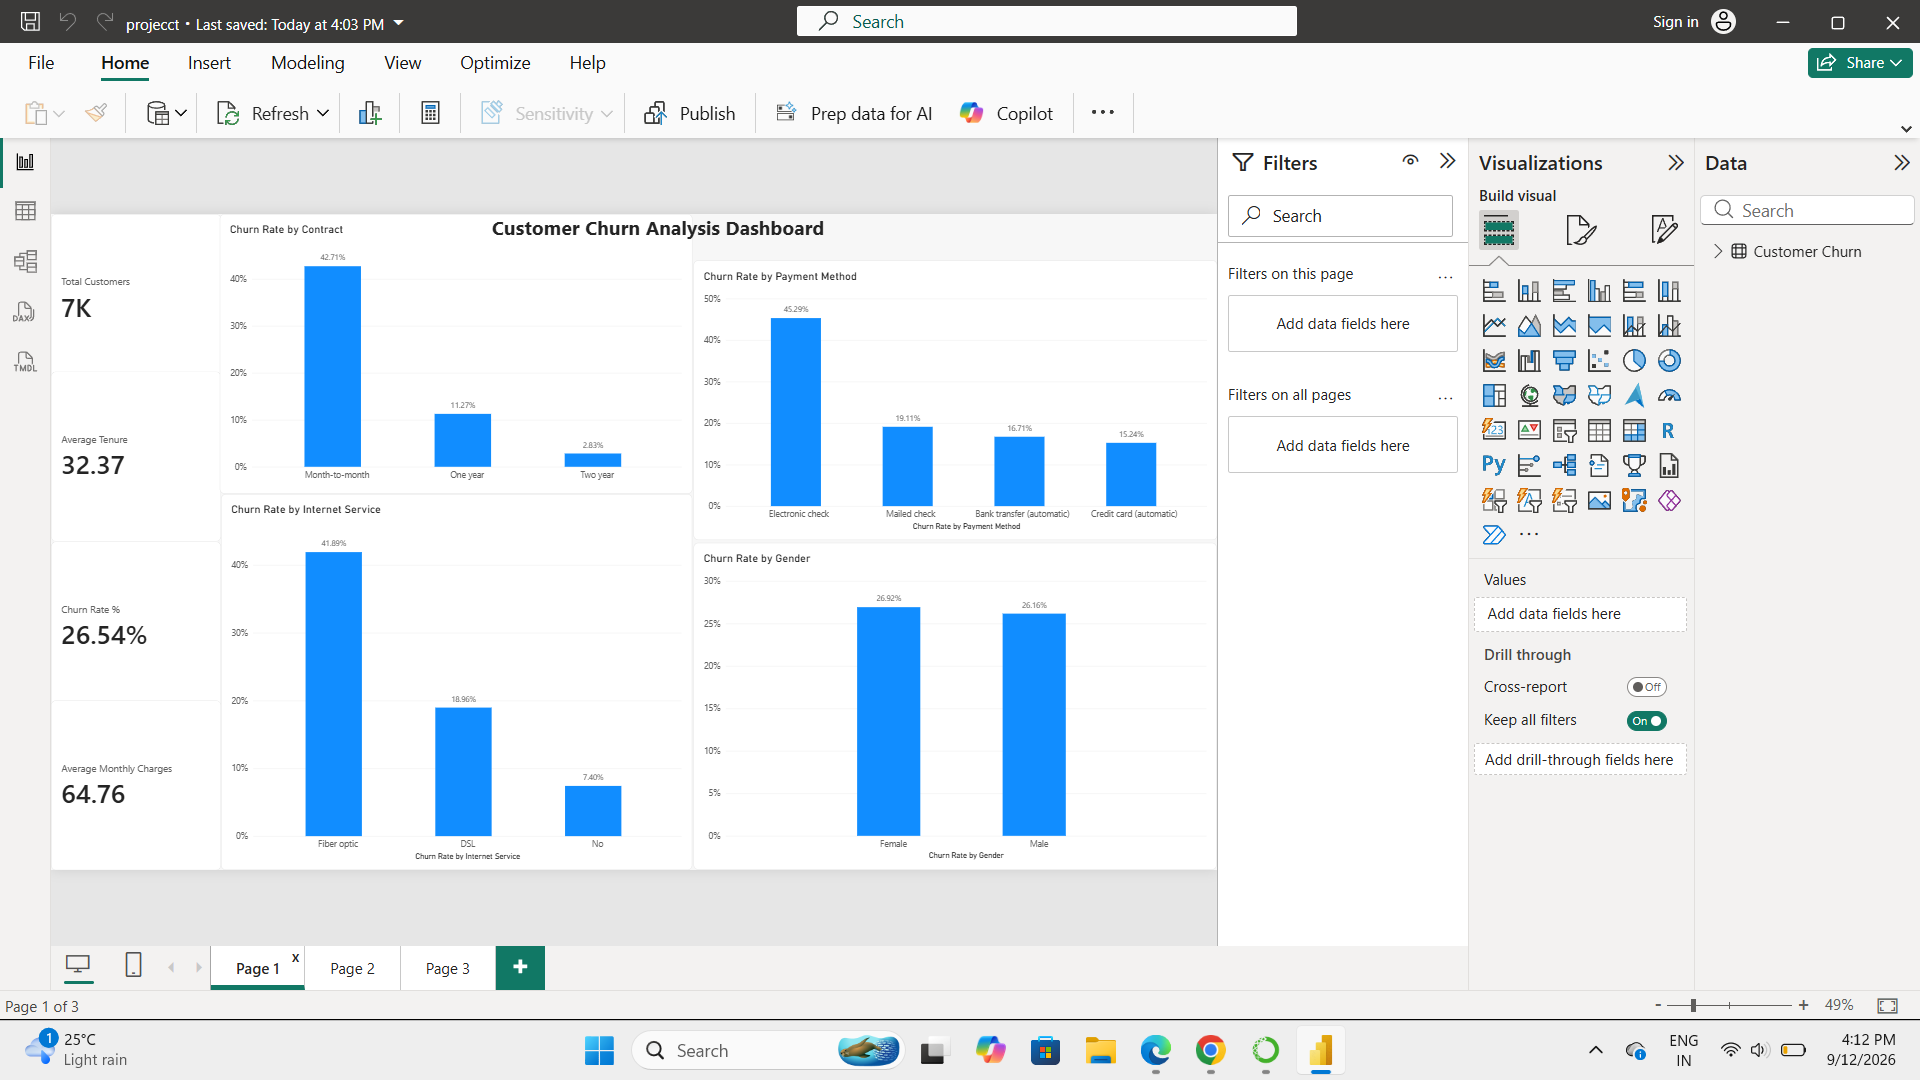

What the dashboard file says about the page in this screenshot:
{"tool":"powerbi","page":{"name":"Page 1","canvas":[1920,1080],"ordinal":0},"visuals":[{"type":"cardVisual","fields":{"Data":["Customer Churn.Total Customers"]},"box":[0,0,280,280],"z":0},{"type":"cardVisual","fields":{"Data":["Customer Churn.Churn Rate %"]},"box":[0,540,280,280],"z":1000},{"type":"cardVisual","fields":{"Data":["Customer Churn.Average Monthly Charges"]},"box":[0,800,280,280],"z":2000},{"type":"cardVisual","fields":{"Data":["Customer Churn.Average Tenure"]},"box":[0,259.3,280,280],"z":3000},{"type":"columnChart","title":"Churn Rate by Contract","fields":{"Category":["Customer Churn.Contract"],"Y":["Customer Churn.Churn Rate %"]},"box":[278,0,778,461.1],"z":4000},{"type":"clusteredColumnChart","title":"Churn Rate by Internet Service","fields":{"Category":["Customer Churn.InternetService"],"Y":["Customer Churn.Churn Rate %"]},"box":[279.9,461.1,776,619.6],"z":5000},{"type":"clusteredColumnChart","title":"Churn Rate by Payment Method","fields":{"Category":["Customer Churn.PaymentMethod"],"Y":["Customer Churn.Churn Rate %"]},"box":[1058.4,77,862.4,461.1],"z":6000},{"type":"clusteredColumnChart","title":"Churn Rate by Gender","fields":{"Category":["Customer Churn.gender"],"Y":["Customer Churn.Churn Rate %"]},"box":[1058.4,540.9,861.6,538.8],"z":7000},{"type":"textbox","box":[549.5,0,752.6,160.4],"z":7001}]}

Visuals, with their boxes on the page's 1920x1080 design canvas (x1, y1, x2, y2). These are canvas units, not pixel positions in the 1920x1080 screenshot, which may show the page scaled, cropped or inside an application window:
cardVisual - Customer Churn.Total Customers: 0/0/280/280
cardVisual - Customer Churn.Churn Rate %: 0/540/280/820
cardVisual - Customer Churn.Average Monthly Charges: 0/800/280/1080
cardVisual - Customer Churn.Average Tenure: 0/259/280/539
"Churn Rate by Contract" columnChart: 278/0/1056/461
"Churn Rate by Internet Service" clusteredColumnChart: 280/461/1056/1081
"Churn Rate by Payment Method" clusteredColumnChart: 1058/77/1921/538
"Churn Rate by Gender" clusteredColumnChart: 1058/541/1920/1080
textbox: 550/0/1302/160
